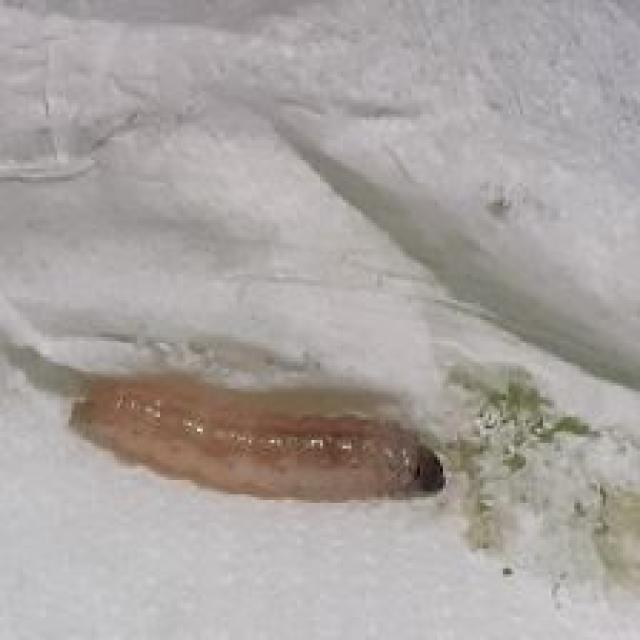white mucus: (65, 360, 471, 521)
